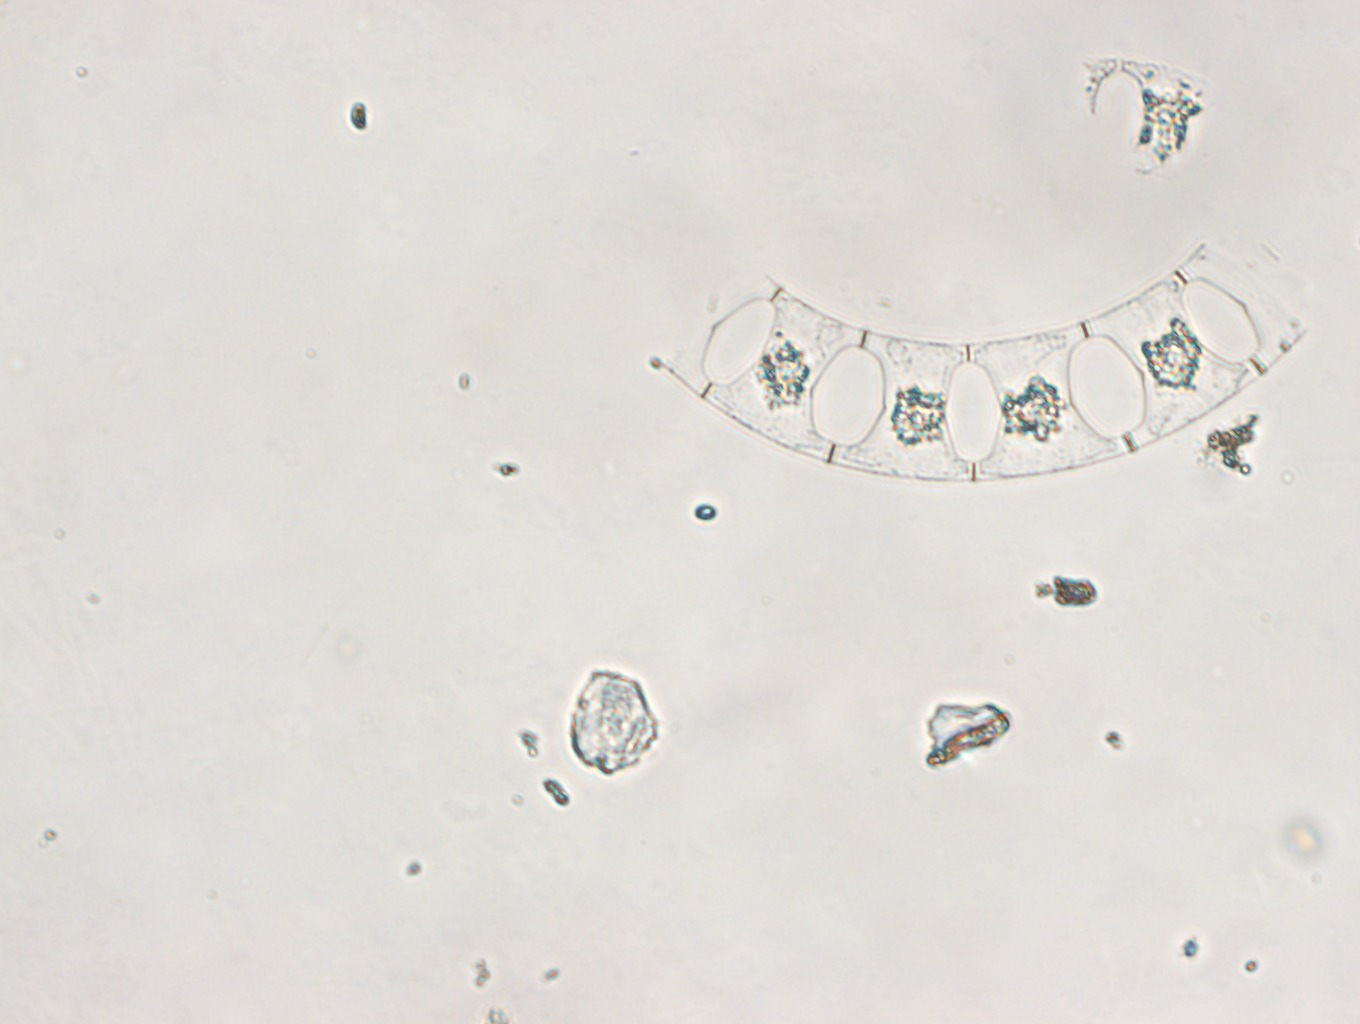eucampia: (675, 221, 1301, 490)
